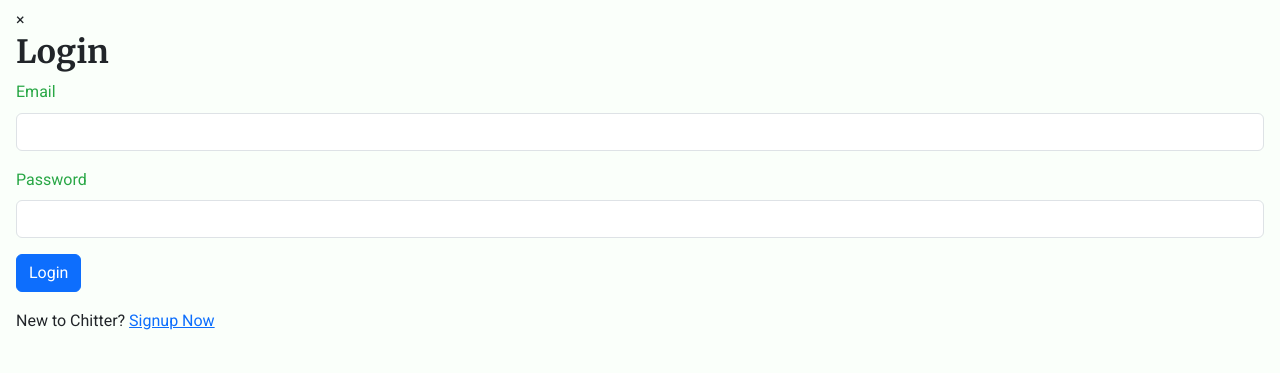
Test case: Login Component - API Calls › should display an error message on failed login
Type "hpotter@gmail.com" into the field labelled "Email" at (640, 132), box [16, 113, 1264, 151]
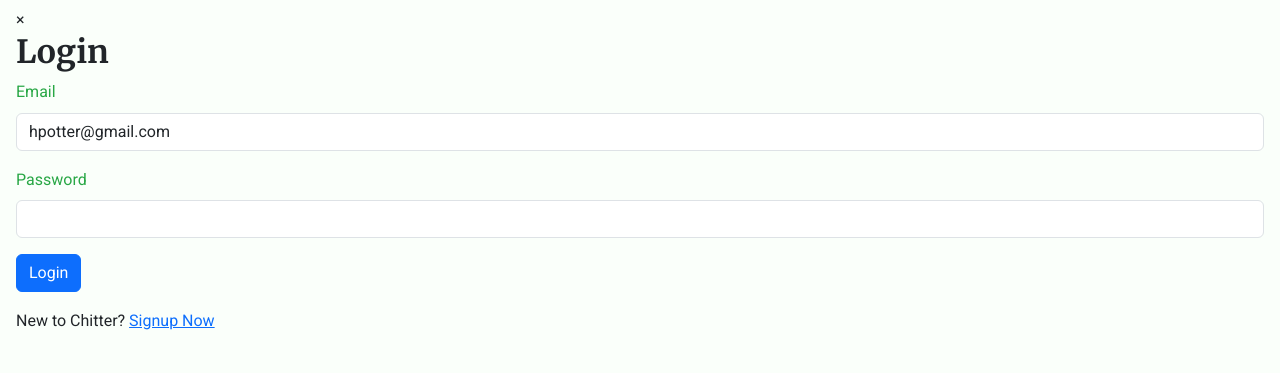
Type "9999999" into the password field labelled "Password" at (640, 219), box [16, 200, 1264, 238]
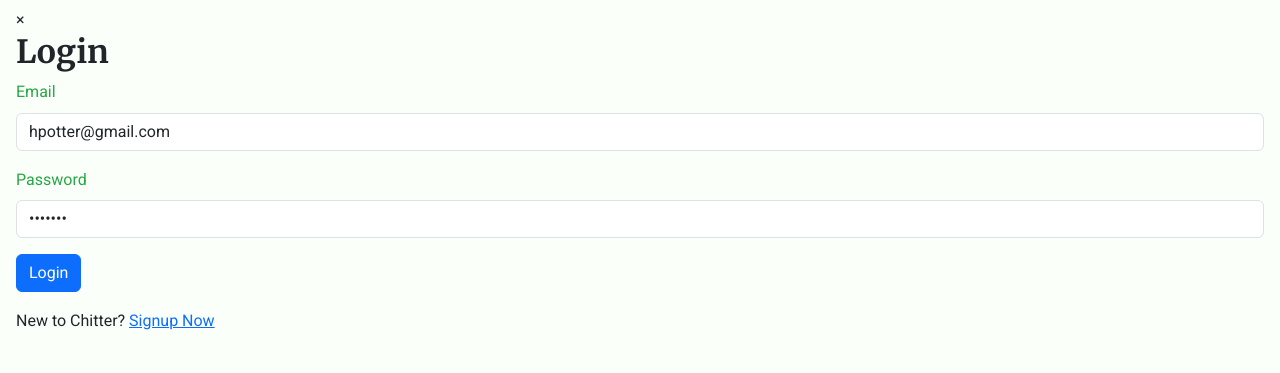
Click the button "Login" at (49, 273), box [16, 254, 82, 292]
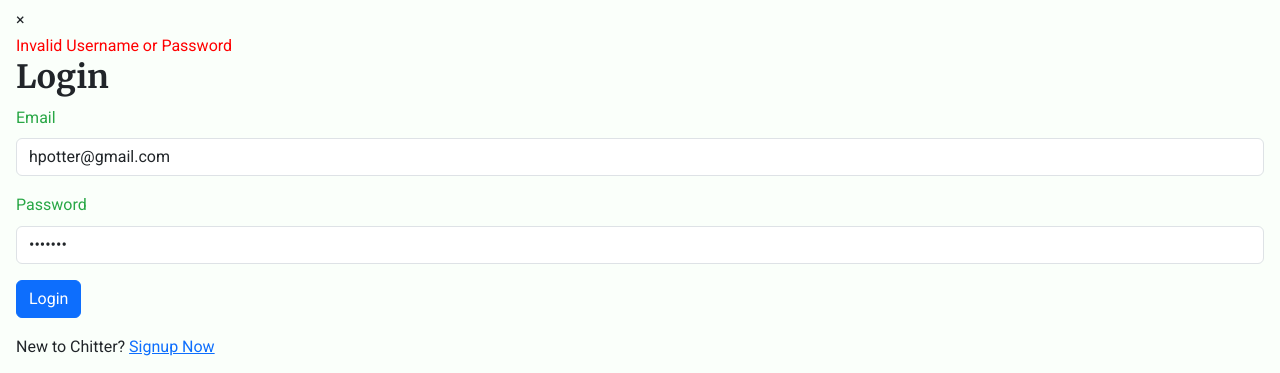
Check: the text "Invalid Username or Password" is shown, box [16, 36, 232, 55]
